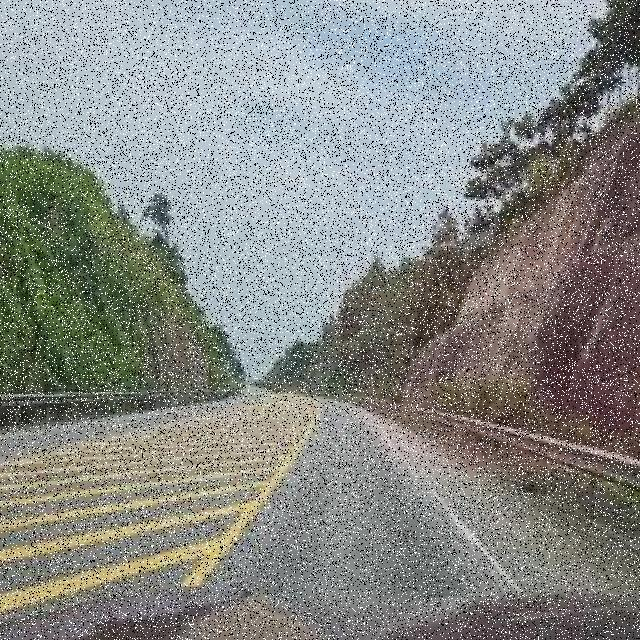clear-road: (0, 391, 640, 614)
